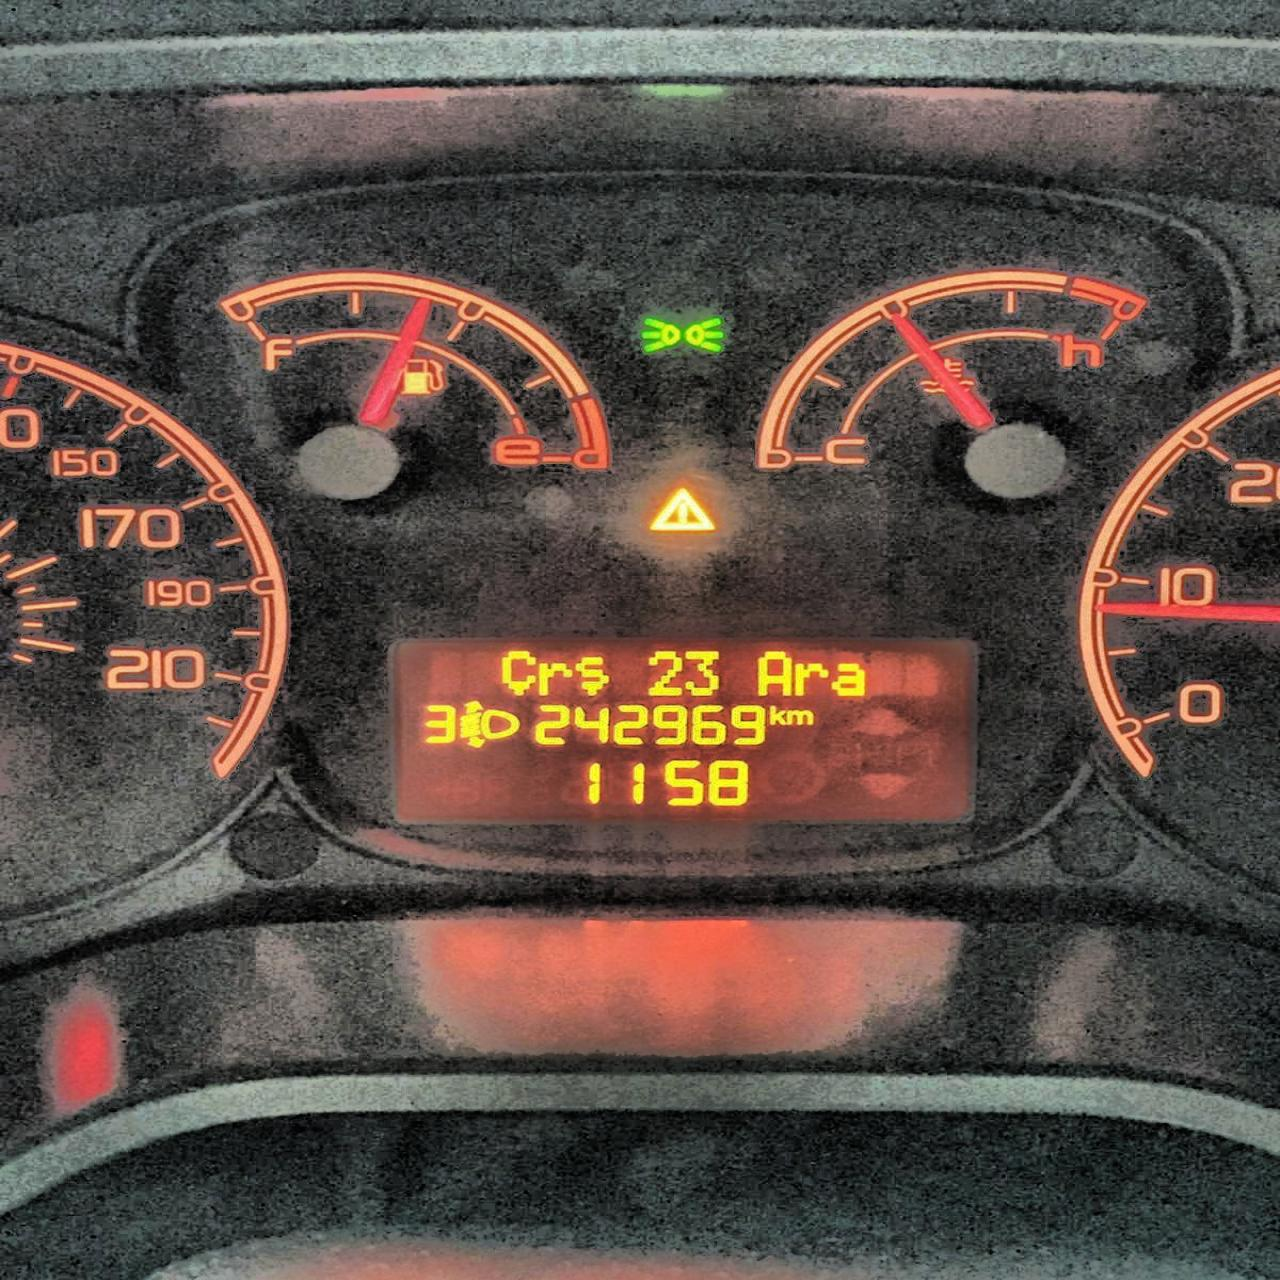1: (580, 757, 607, 804), (625, 758, 646, 808)
2: (645, 648, 682, 696), (532, 702, 568, 748), (613, 702, 647, 744)
3: (686, 646, 722, 700), (423, 697, 456, 747)
4: (574, 704, 608, 747)
5: (662, 757, 703, 808)
6: (694, 702, 724, 748)
8: (707, 757, 747, 811)
9: (728, 700, 767, 748), (649, 701, 687, 744)
X: (499, 646, 535, 696), (572, 653, 610, 699), (756, 651, 792, 697), (831, 660, 866, 697), (537, 659, 571, 695), (792, 660, 825, 695), (785, 708, 815, 726), (769, 702, 785, 727)
odometer: (381, 626, 993, 831)
